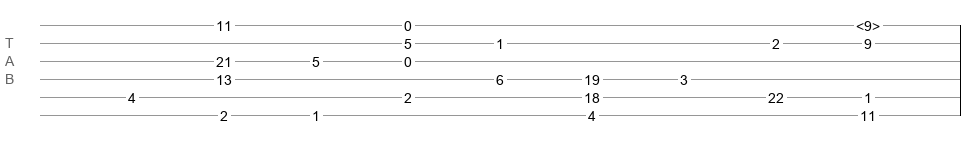0: (404, 54, 412, 64), (404, 18, 412, 28)
1: (312, 108, 320, 118), (496, 36, 504, 46), (864, 90, 872, 100)
11: (216, 18, 232, 28), (860, 108, 876, 118)
13: (216, 72, 232, 82)
18: (584, 90, 600, 100)
19: (584, 72, 600, 82)
2: (220, 108, 228, 118), (404, 90, 412, 100), (772, 36, 780, 46)
21: (216, 54, 232, 64)
22: (768, 90, 784, 100)
3: (680, 72, 688, 82)
4: (128, 90, 136, 100), (588, 108, 596, 118)
5: (312, 54, 320, 64), (404, 36, 412, 46)
6: (496, 72, 504, 82)
9: (864, 36, 872, 46)
harmonic: (856, 18, 880, 28)
